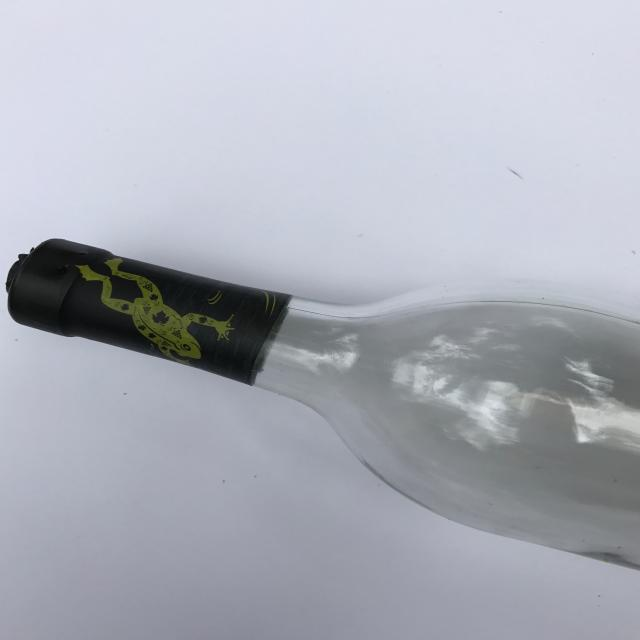glass: (5, 236, 640, 575)
